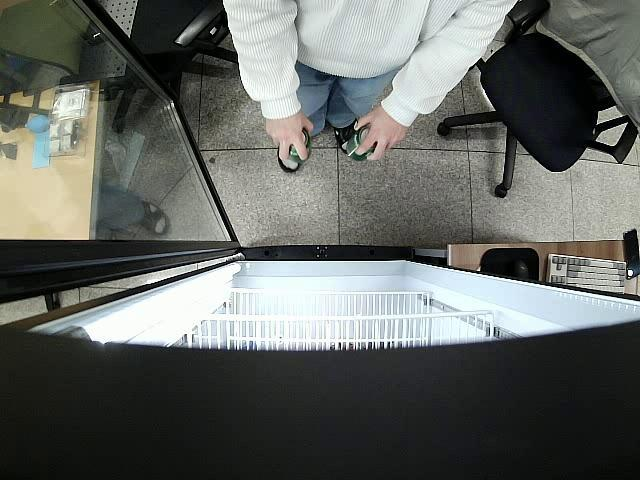12_chilsungCider: (346, 126, 376, 161), (290, 128, 310, 162)
